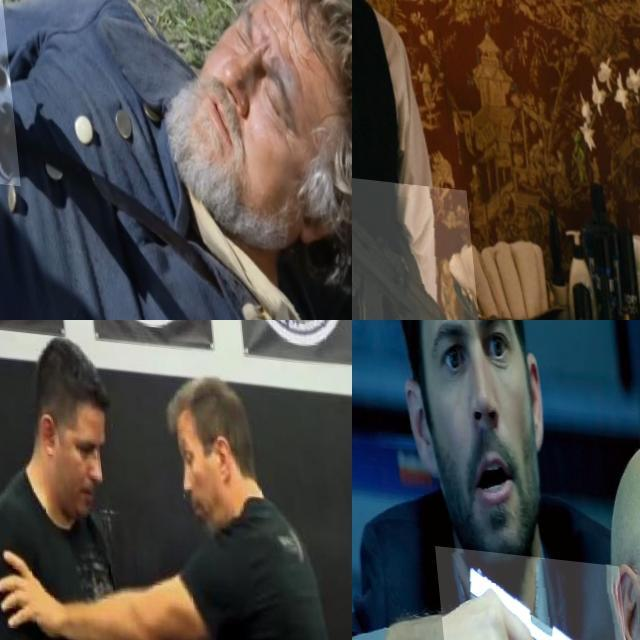gun-knife-thesis - v11 Yolov5 augmented: (428, 541, 630, 640), (352, 168, 475, 320), (0, 0, 62, 182)
